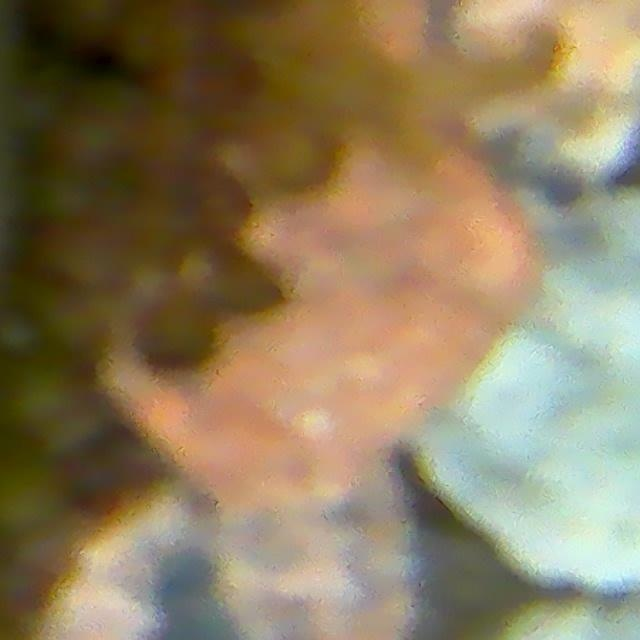SeaGrape: (134, 285, 209, 375), (32, 181, 118, 256), (262, 124, 337, 198), (181, 166, 248, 247), (0, 466, 69, 541), (9, 366, 81, 437), (81, 81, 148, 151), (216, 255, 283, 320), (67, 261, 119, 313), (0, 309, 46, 363)
